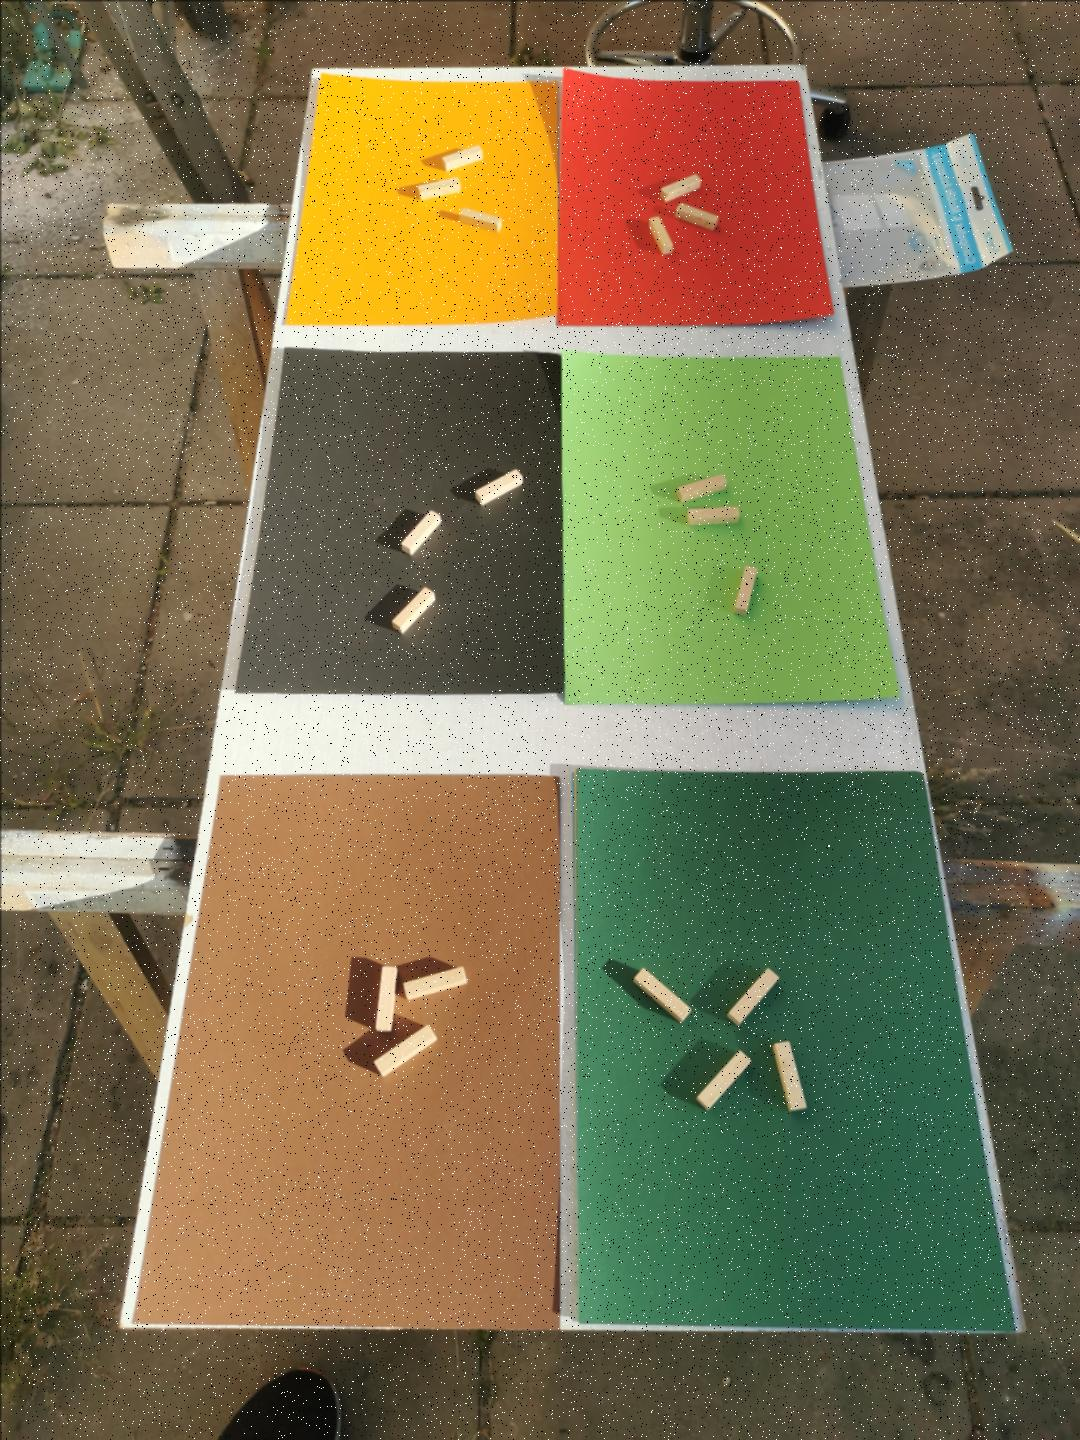jenga: (694, 1049, 751, 1108), (726, 967, 779, 1024), (374, 1026, 436, 1075), (633, 967, 689, 1020), (403, 965, 467, 999), (774, 1041, 804, 1111), (399, 509, 441, 554), (391, 587, 433, 633), (475, 469, 523, 503), (374, 965, 397, 1032), (675, 473, 726, 501), (686, 503, 740, 526), (675, 203, 717, 230), (734, 566, 757, 613), (658, 175, 700, 200), (416, 177, 462, 200), (441, 144, 481, 169), (647, 217, 673, 253), (458, 209, 500, 230)
